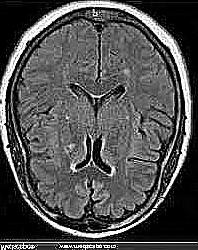Normal_Brain: (1, 1, 197, 250)
